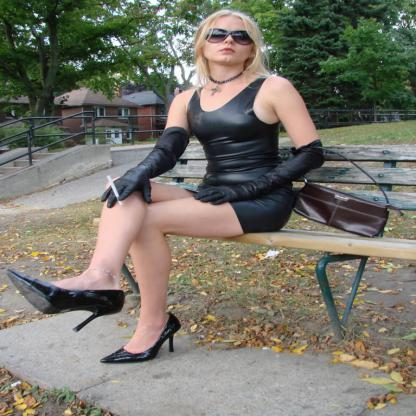smoking: (107, 176, 123, 205)
